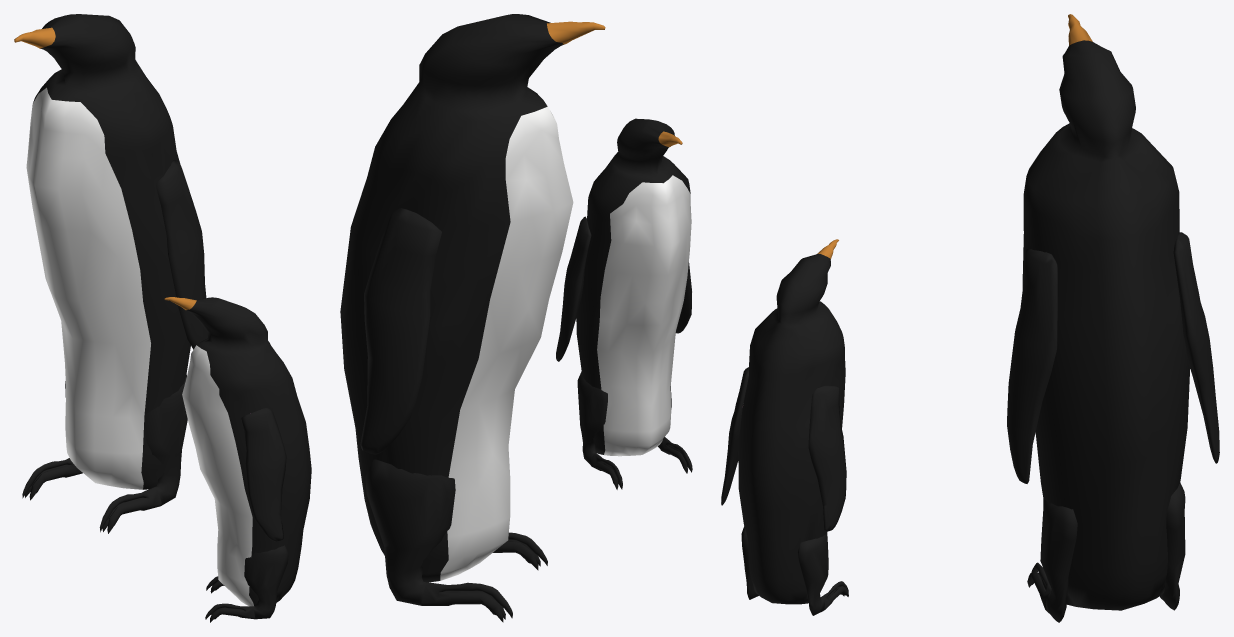
File: Pingouins.fbx
3 views of the same model, side by side, from view 1: azimuth 30°, elevation 25°; view 2: azimuth 150°, elevation 25°; view 3: azimuth 270°, elevation 25° (orthographic). The views are drawn at different scales.
Parts seen in each view (by area): view 1: Pingouin; view 2: Pingouin; view 3: Pingouin.
Boxes of the visible parts, bbox=[...] form: Pingouin: bbox=[14, 14, 311, 622]; Pingouin: bbox=[340, 14, 692, 622]; Pingouin: bbox=[721, 14, 1219, 622].
Bounding box in the file's own units: 97.27 × 233 × 196.
